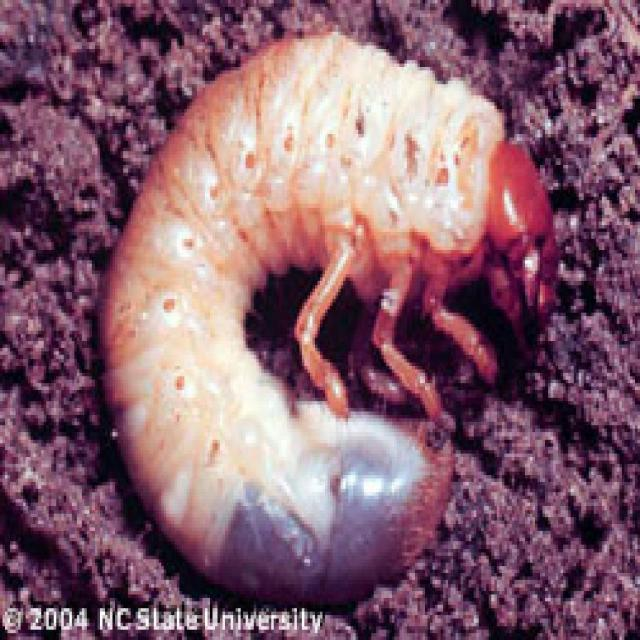Grub-Adult-: (78, 18, 571, 614)
